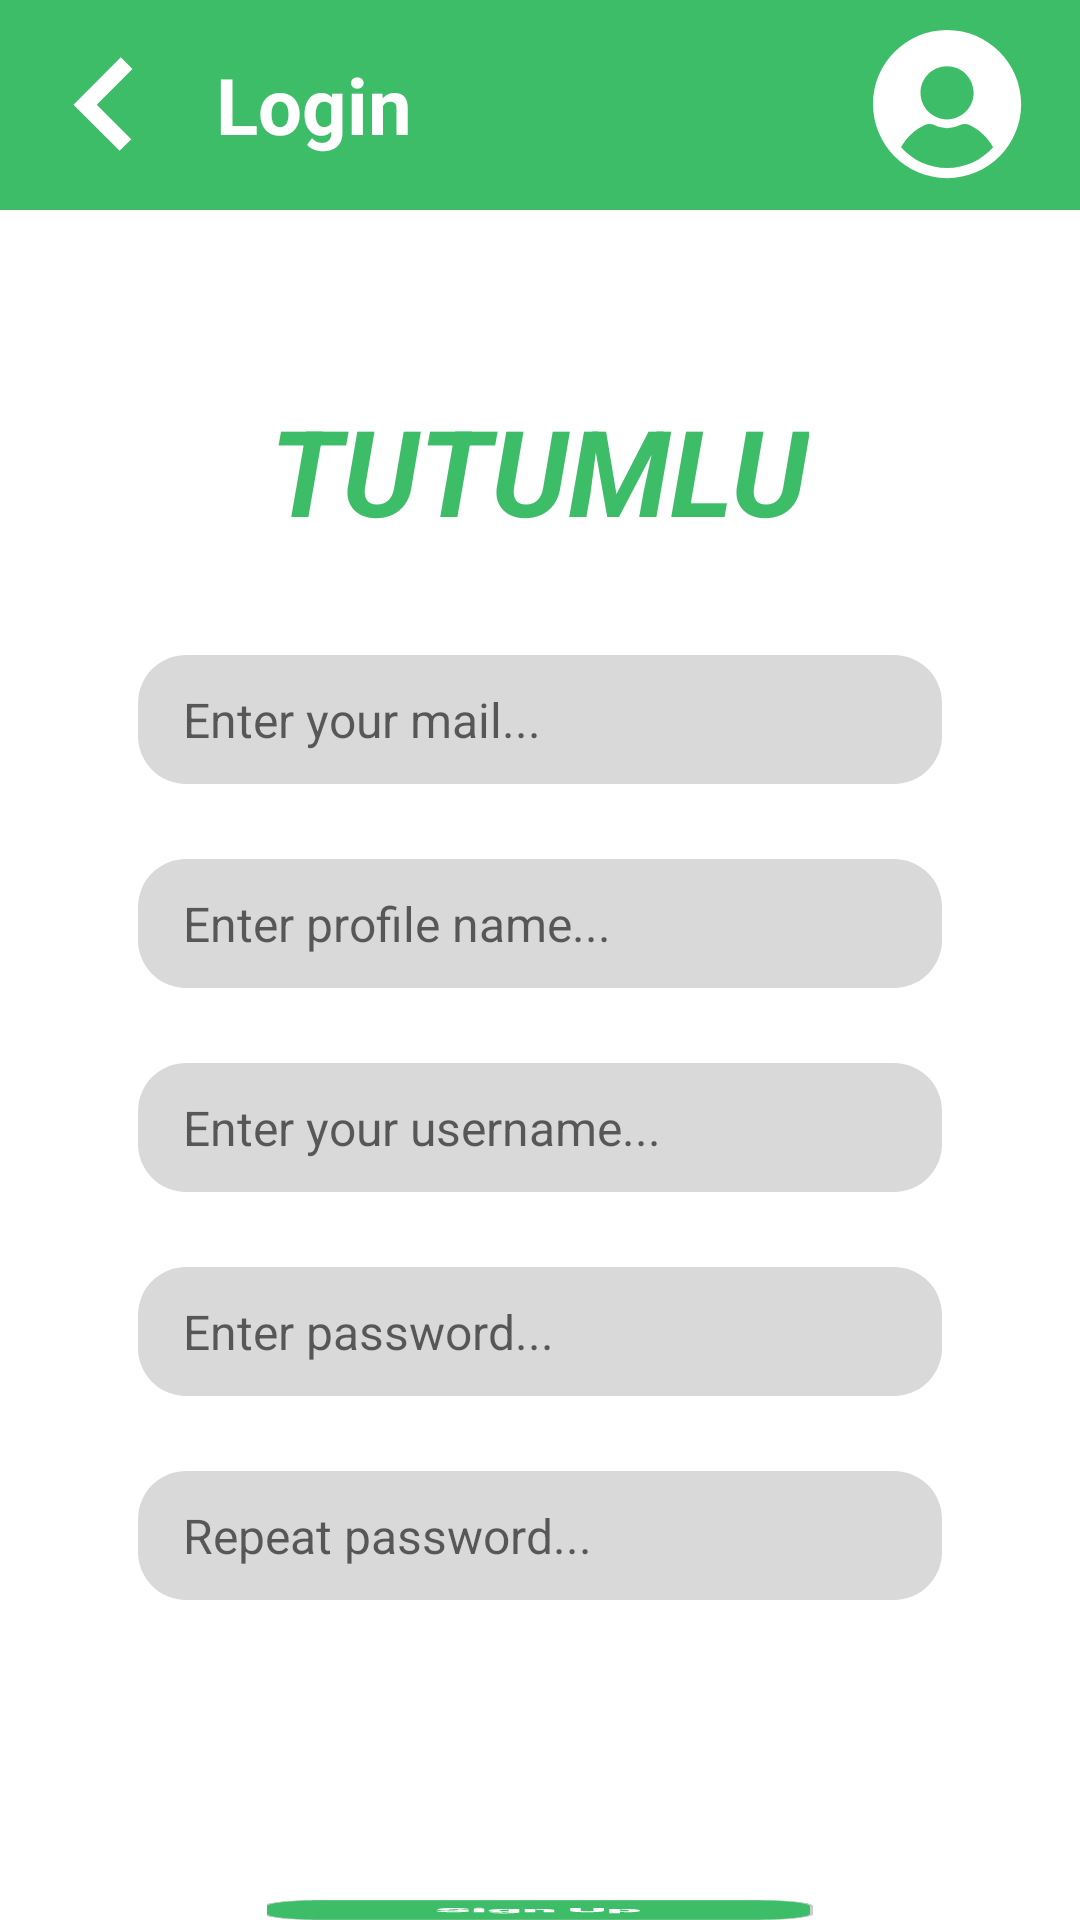

Named icons in this screenshot (1080 x 1920) and their centers, point (x, y):
back: point (102, 104)
